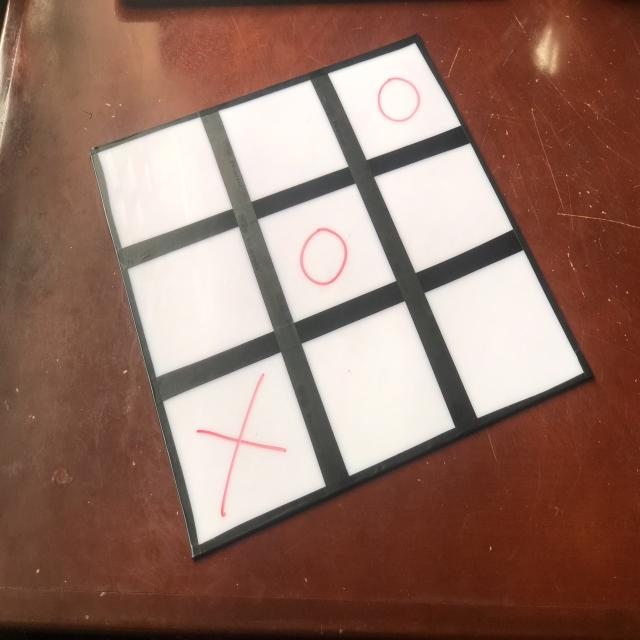null: (297, 300, 459, 478), (425, 249, 584, 419), (115, 223, 281, 377), (93, 116, 238, 254), (374, 134, 514, 273), (218, 71, 353, 203)
o: (285, 213, 363, 294), (366, 68, 431, 136)
table: (26, 2, 593, 555)
x: (187, 373, 301, 515)
